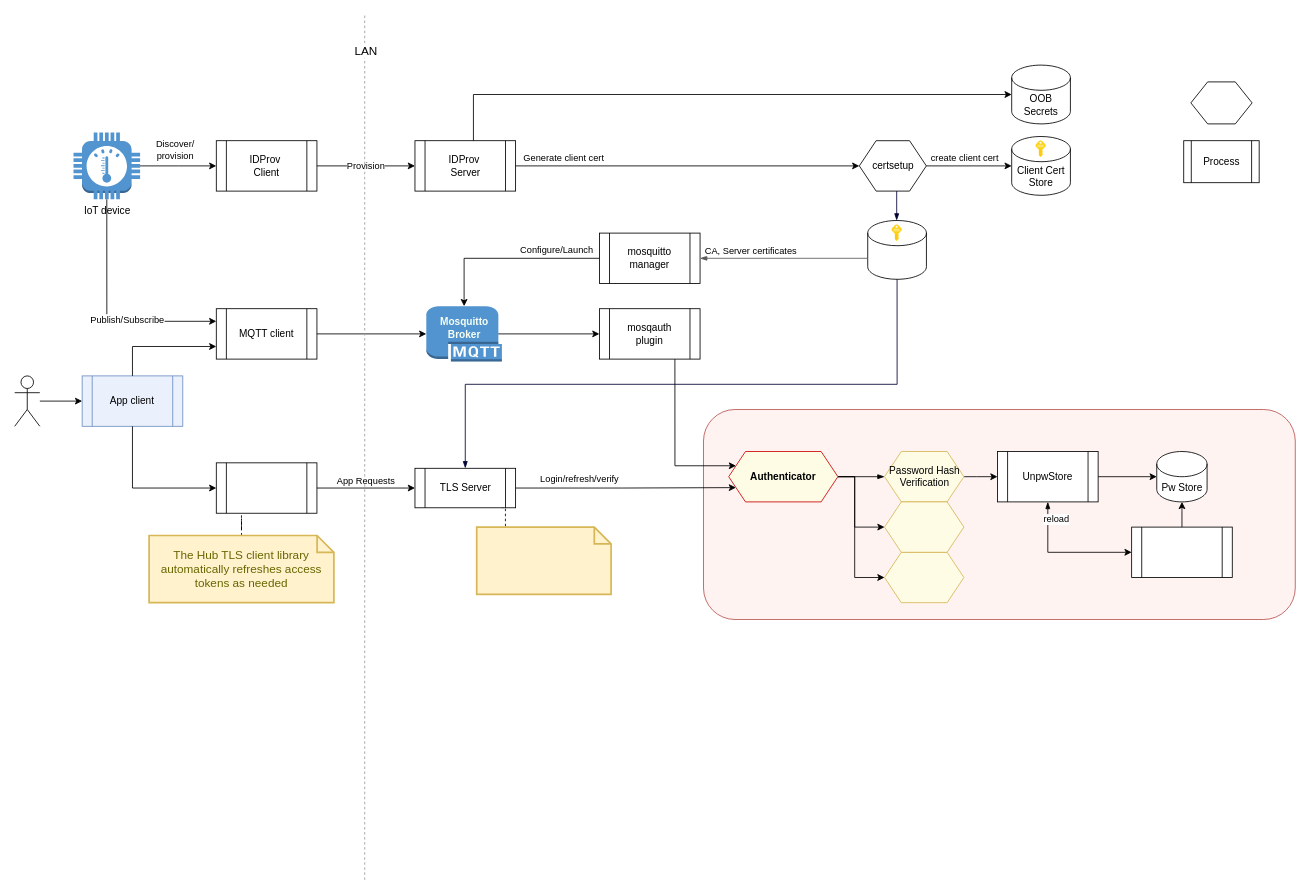
The diagram is 1310 pixels wide and 895 high, and some of its shapes have lost their labels. Each missing label, with the box of its shape:
CA, Server Certs: (867, 220, 926, 279)
Hub Authentication Library: (703, 409, 1295, 620)
JWT Token Generation: (884, 501, 964, 552)
JWT Token Verification: (884, 551, 964, 603)
Library: (1190, 81, 1252, 124)
The Hub TLS Server has built-in hooks for authentication: (475, 526, 612, 595)
TLS Client: (215, 462, 317, 513)
User: (14, 375, 40, 426)
Watcher: (1131, 526, 1232, 578)
